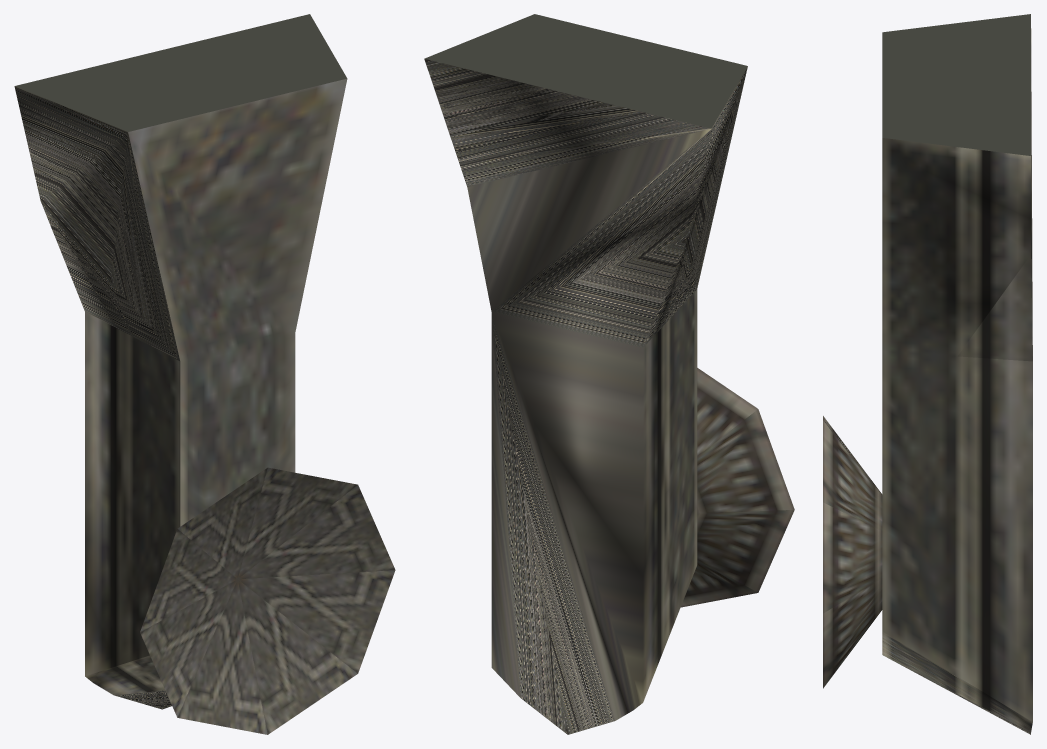
The model's file is Stand.fbx.
The picture shows the model from 3 angles, left to right: view 1: azimuth 30°, elevation 25°; view 2: azimuth 150°, elevation 25°; view 3: azimuth 270°, elevation 25°; orthographic projection. The views are drawn at different scales.
Parts seen in each view (by area): view 1: Dungeon06_c; view 2: Dungeon06_c; view 3: Dungeon06_c.
Boxes of the visible parts, x1=… form: Dungeon06_c: x1=14, y1=14, x2=395, y2=734; Dungeon06_c: x1=424, y1=14, x2=794, y2=734; Dungeon06_c: x1=823, y1=14, x2=1032, y2=734.
Bounding box in the file's own units: 48.85 × 104 × 30.48.
